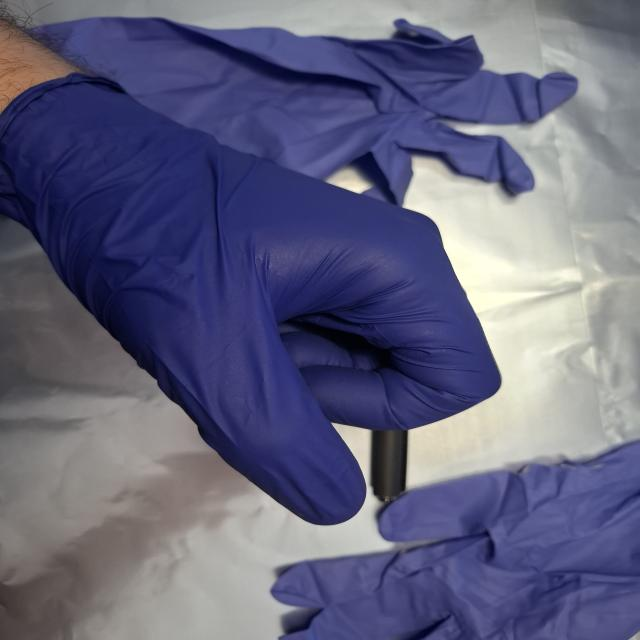glove_on: (2, 70, 506, 529)
